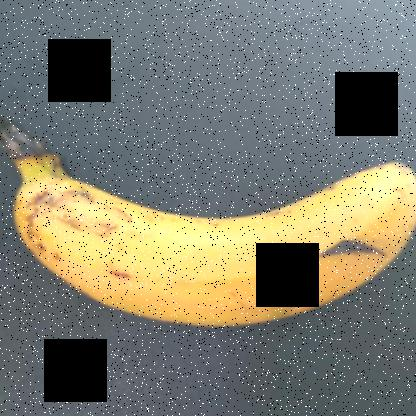ripe: (4, 140, 411, 340)
